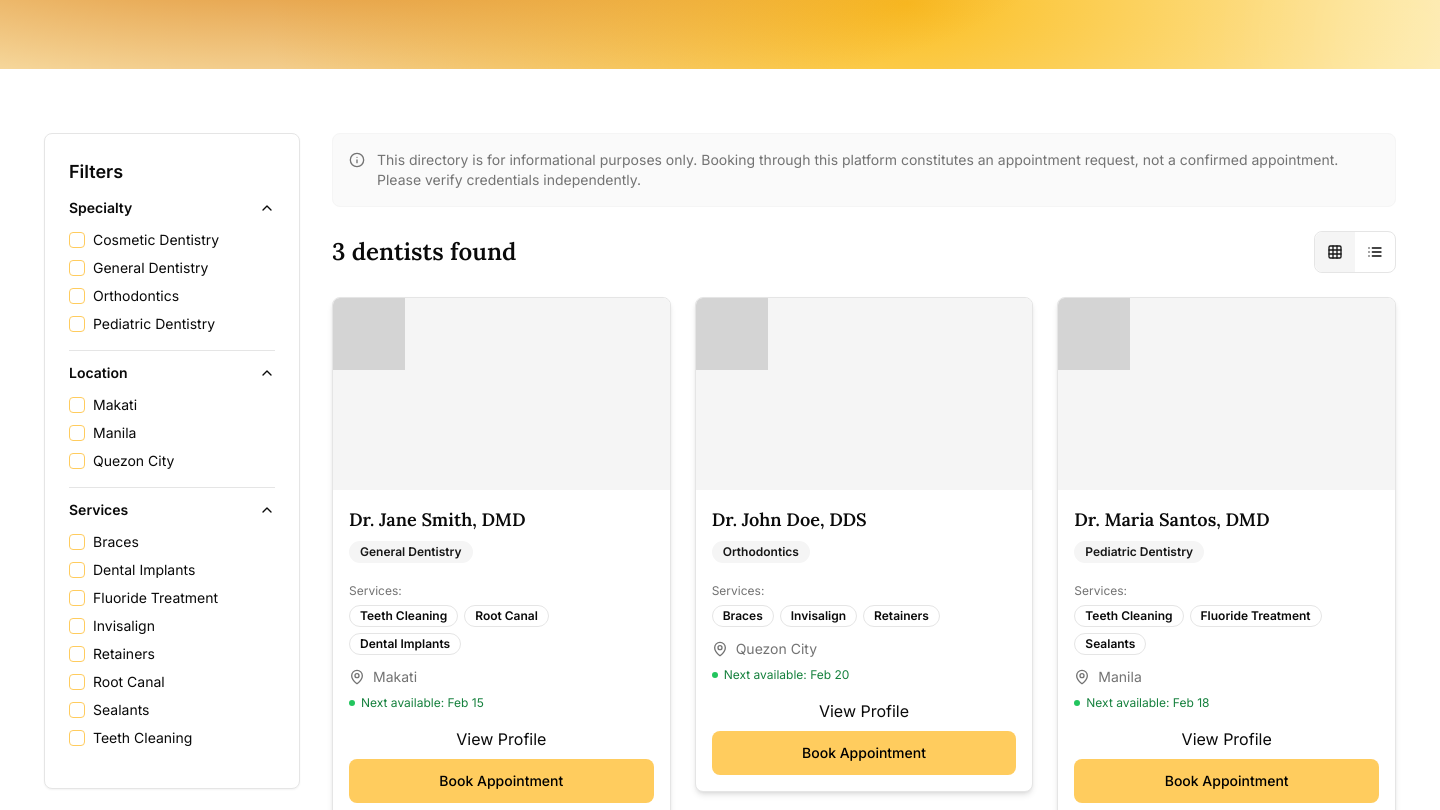
Scenario: Find a Dentist Directory Page › Filter Functionality › filters dentists by location checkbox
The image size is (1440, 810).
(page scrolled)
# Click Makati location filter
Click the 5th checkbox named "Makati" at (77, 405), box [69,397,85,413]
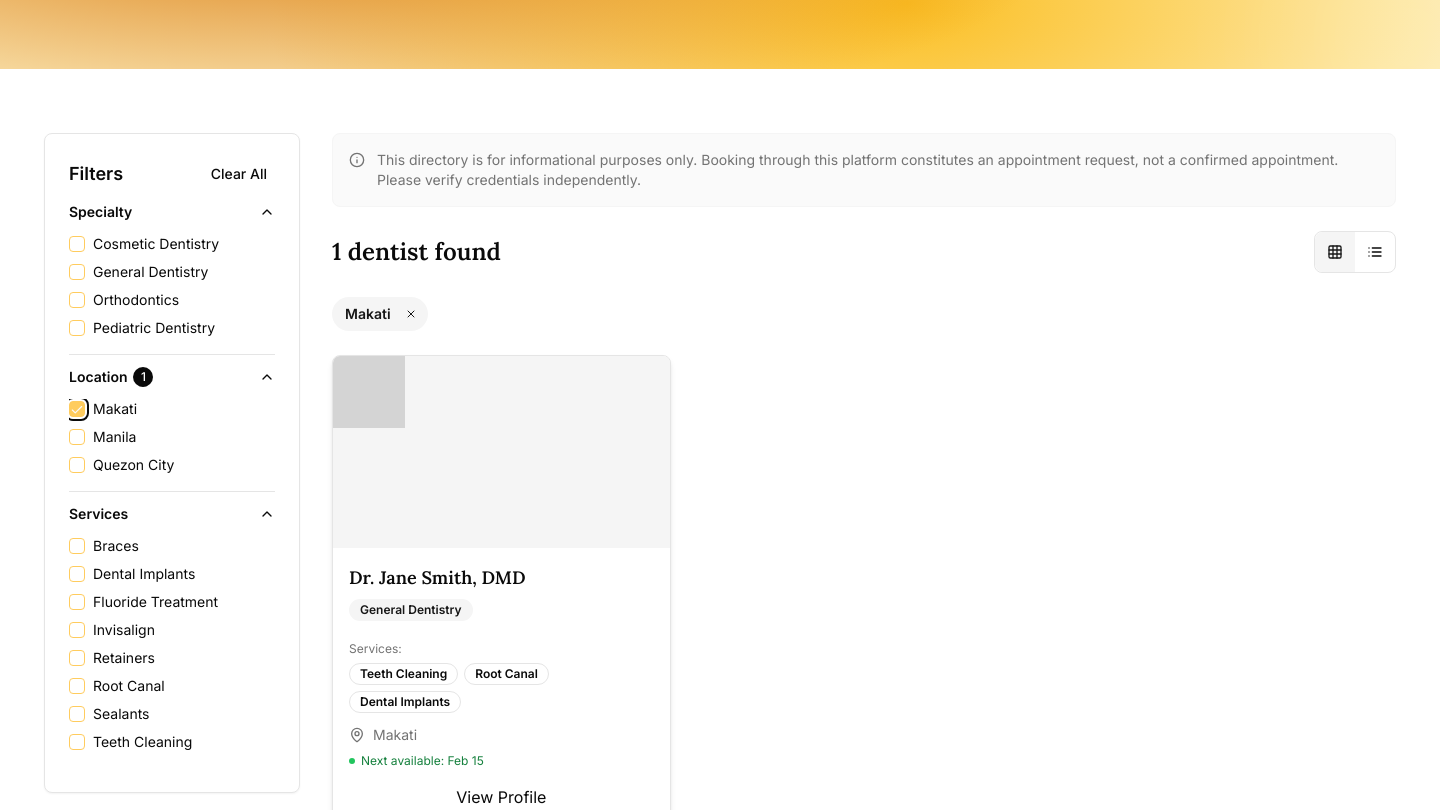
Check: the heading "Dr. Jane Smith, DMD" is shown, box [349,566,526,589]
Check: the heading "1 dentist found" is shown, box [332,236,501,268]
